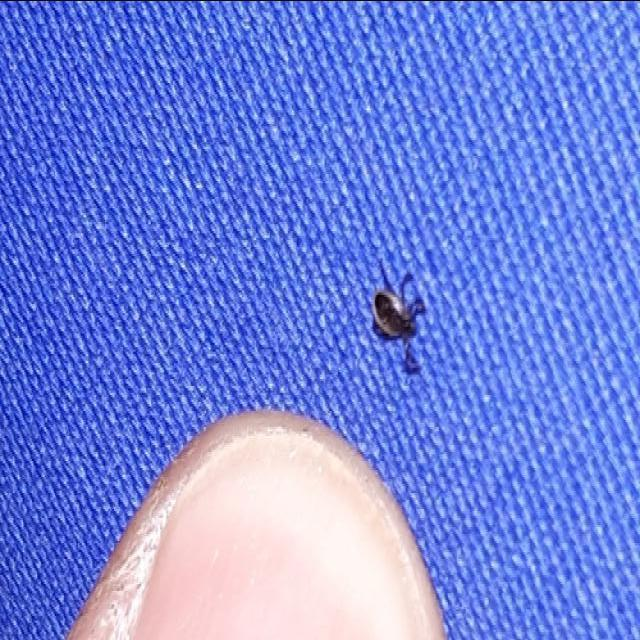Ixodes Ricinus-M: (371, 264, 425, 374)
